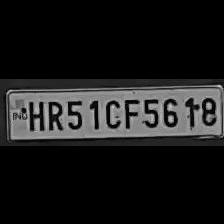1: (180, 93, 200, 126), (86, 96, 102, 128)
5: (64, 96, 84, 128), (140, 94, 160, 126)
6: (160, 93, 180, 126)
8: (198, 93, 218, 126)
C: (102, 96, 122, 128)
F: (121, 95, 139, 127)
H: (24, 96, 44, 130)
R: (44, 96, 64, 130)
